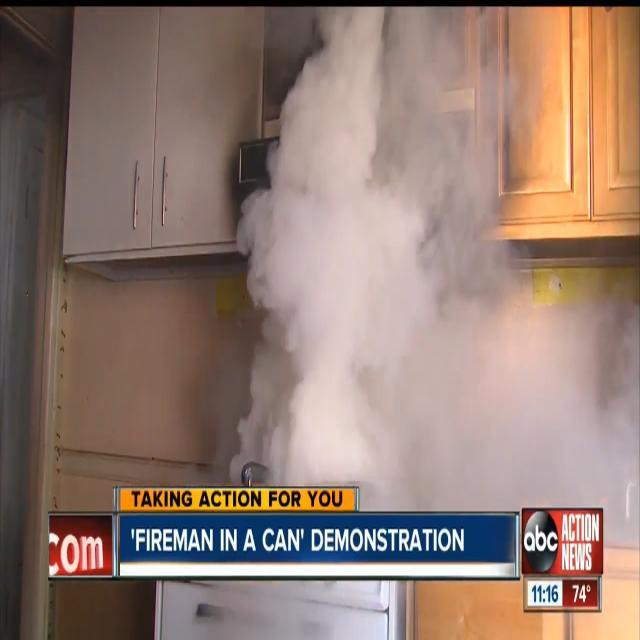Smoke: (238, 5, 625, 489)
